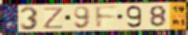3: (20, 6, 41, 32)
8: (149, 5, 168, 28)
9: (73, 6, 92, 30), (126, 5, 143, 29)
F: (94, 5, 119, 30)
Z: (42, 7, 65, 30)
